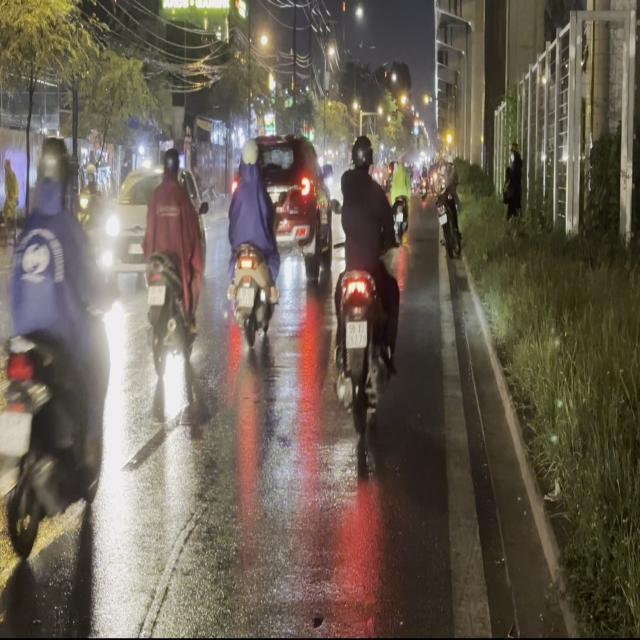helmet: (36, 132, 71, 215), (158, 138, 179, 178), (350, 133, 372, 170), (242, 138, 260, 174)
licenseplate: (0, 120, 115, 630), (328, 130, 402, 438), (221, 134, 280, 354)
nohelmet: (0, 411, 31, 453), (346, 323, 367, 349), (148, 286, 165, 305), (239, 288, 254, 308)
